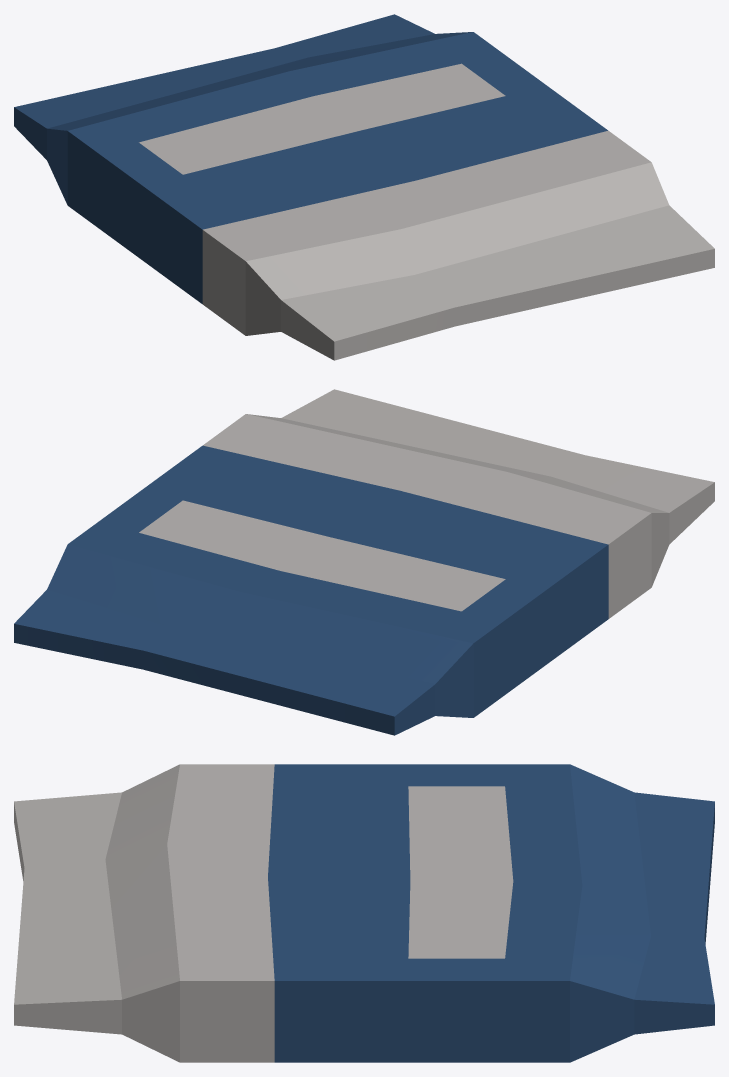
Rendered from SM_Item_Meal_Sachet_02.fbx.
3 views of the same model, one above another, from view 1: azimuth 30°, elevation 25°; view 2: azimuth 150°, elevation 25°; view 3: azimuth 270°, elevation 25° (orthographic). The views are drawn at different scales.
Visible parts, largest first — view 1: SM_Item_Meal_Sachet_02; view 2: SM_Item_Meal_Sachet_02; view 3: SM_Item_Meal_Sachet_02.
Boxes of the visible parts, box(x1,y1,x2,y2) form: SM_Item_Meal_Sachet_02: box(14, 14, 714, 360); SM_Item_Meal_Sachet_02: box(14, 389, 714, 735); SM_Item_Meal_Sachet_02: box(14, 764, 714, 1062).
Bounding box in the file's own units: 12.01 × 2.11 × 16.41.
